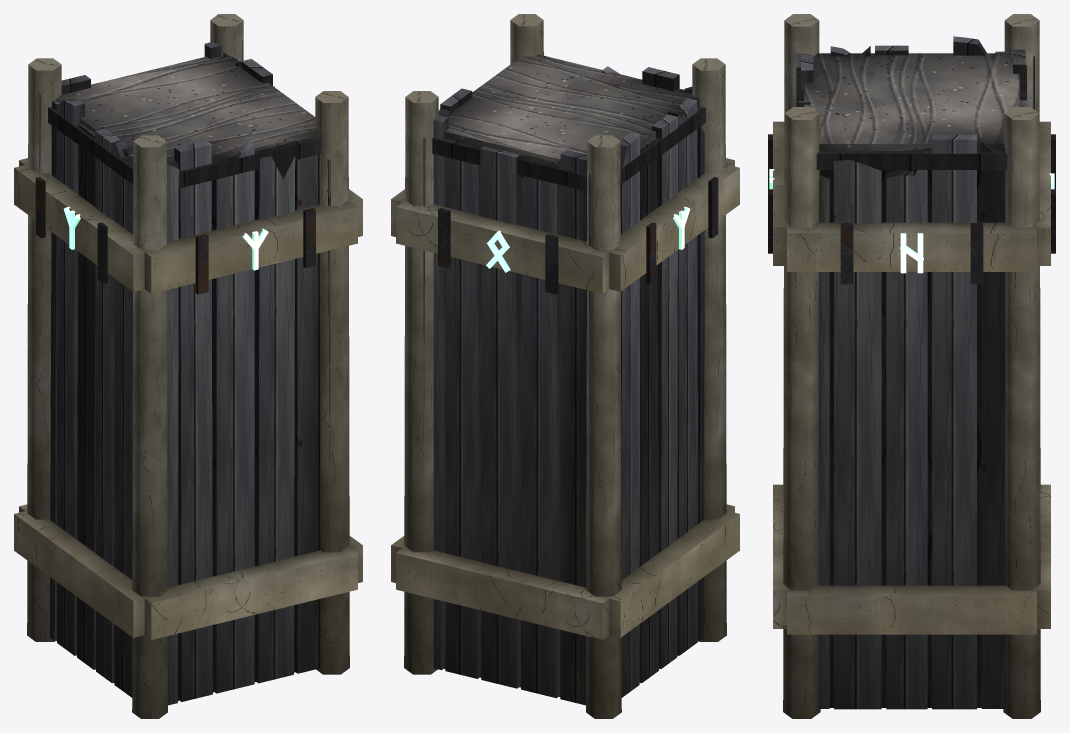
File: helheim_timber_wall.glb
3 views of the same model, side by side, from view 1: azimuth 30°, elevation 25°; view 2: azimuth 150°, elevation 25°; view 3: azimuth 270°, elevation 25° (orthographic). The views are drawn at different scales.
Parts seen in each view (by area): view 1: helheim_timber_wall; view 2: helheim_timber_wall; view 3: helheim_timber_wall.
Part boxes in pixels (<box>): helheim_timber_wall: <box>14,14,362,718</box>; helheim_timber_wall: <box>391,14,739,718</box>; helheim_timber_wall: <box>768,14,1055,718</box>.
Bounding box in the file's own units: 1.15 × 2.64 × 1.15.
6 materials, 5 textured.
